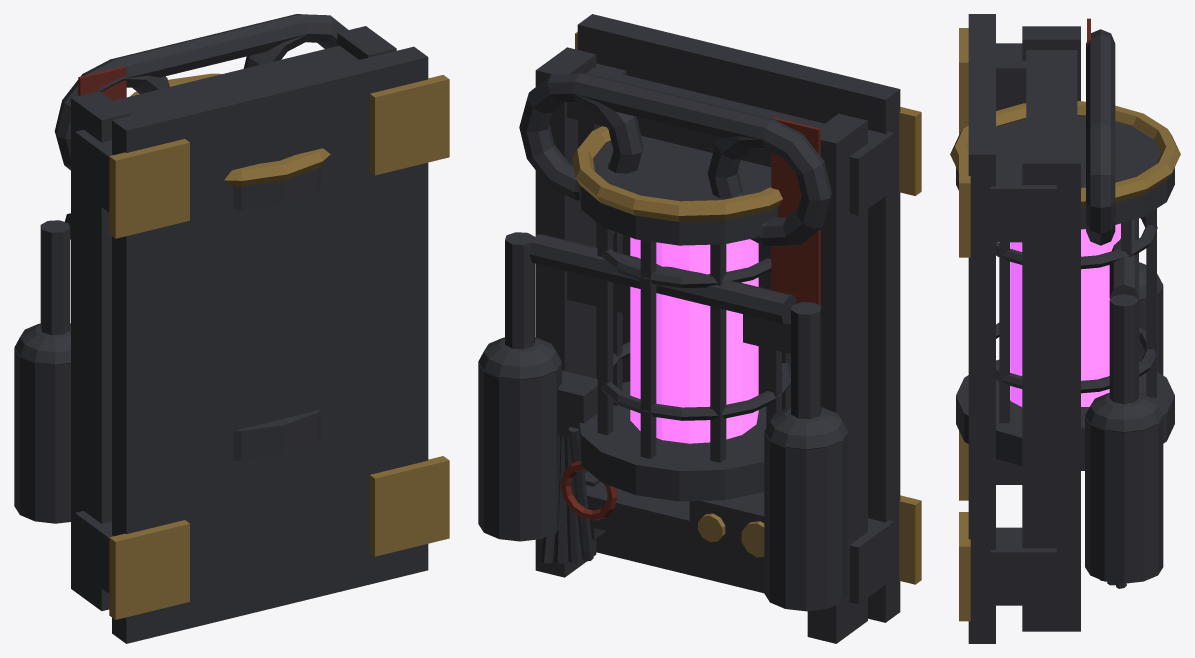
The model's file is rift_siphon_wall_machine.glb.
3 renders of one model, left to right at view 1: azimuth 30°, elevation 25°; view 2: azimuth 150°, elevation 25°; view 3: azimuth 270°, elevation 25°, orthographic. The views are drawn at different scales.
Visible parts, largest first — view 1: Backplate, FrameUpright, Tank, BoltPlate, BoltPlate.002, BoltPlate.001, BoltPlate.003, TopRun, FrameCross.002, Conduit, ChamberBase, CapRing (+8 smaller); view 2: Backplate, FrameUpright, RiftCore, Tank, Tank.001, ChamberBase, FrameUpright.001, ChamberCap, TopArc, TopArc.001, TopRun, CapRing (+29 smaller); view 3: FrameUpright.001, Backplate, Tank.001, RiftCore, FrameCross.002, ChamberCap, Bracket.003, Bracket.002, CapRing, TopArc.001, ChamberBase, Conduit.001 (+17 smaller).
Boxes of the visible parts, x1,y1,x2,y2 form: Backplate: (112, 46, 428, 643); FrameUpright: (71, 91, 129, 610); Tank: (14, 348, 70, 523); BoltPlate: (109, 520, 189, 619); BoltPlate.002: (369, 456, 449, 556); BoltPlate.001: (109, 139, 189, 238); BoltPlate.003: (369, 75, 449, 175); TopRun: (109, 14, 308, 78); FrameCross.002: (113, 45, 358, 115); Conduit: (40, 220, 70, 335); ChamberBase: (233, 409, 321, 460); CapRing: (130, 73, 330, 186); Backplate: (577, 14, 900, 622); FrameUpright: (807, 113, 867, 643); RiftCore: (630, 237, 758, 443); Tank: (764, 432, 847, 611); Tank.001: (478, 362, 561, 541); ChamberBase: (579, 381, 766, 501); FrameUpright.001: (535, 47, 596, 577); ChamberCap: (578, 135, 777, 245); TopArc: (707, 120, 831, 246); TopArc.001: (519, 73, 643, 200); TopRun: (573, 73, 775, 139); CapRing: (572, 126, 782, 221); FrameUpright.001: (1022, 150, 1080, 631); Backplate: (968, 14, 995, 643); Tank.001: (1085, 416, 1163, 583); RiftCore: (1010, 223, 1120, 406); FrameCross.002: (1026, 50, 1077, 150); ChamberCap: (956, 116, 1174, 229); Bracket.003: (990, 164, 1056, 242); Bracket.002: (990, 527, 1056, 605); CapRing: (950, 101, 1180, 207); TopArc.001: (1086, 121, 1115, 245); ChamberBase: (956, 359, 1174, 465); Conduit.001: (1109, 294, 1138, 404).
Size of the model in its own units: 1.98 by 2.79 by 1.18.
